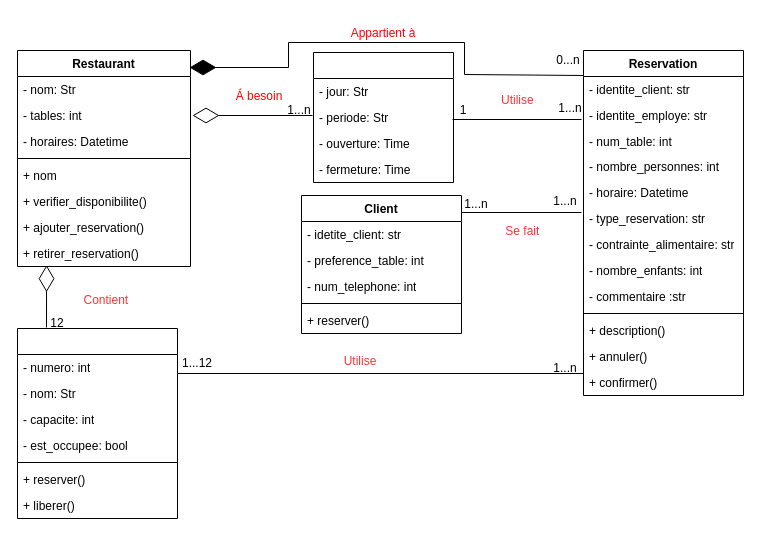
The diagram is 761 pixels wide and 539 high, and some of its shapes have lost their labels. The box of each missing label's shape, as (x1, y1, x2, y2) in pixels:
Horaire: (312, 52, 454, 182)
Table: (16, 328, 178, 518)
